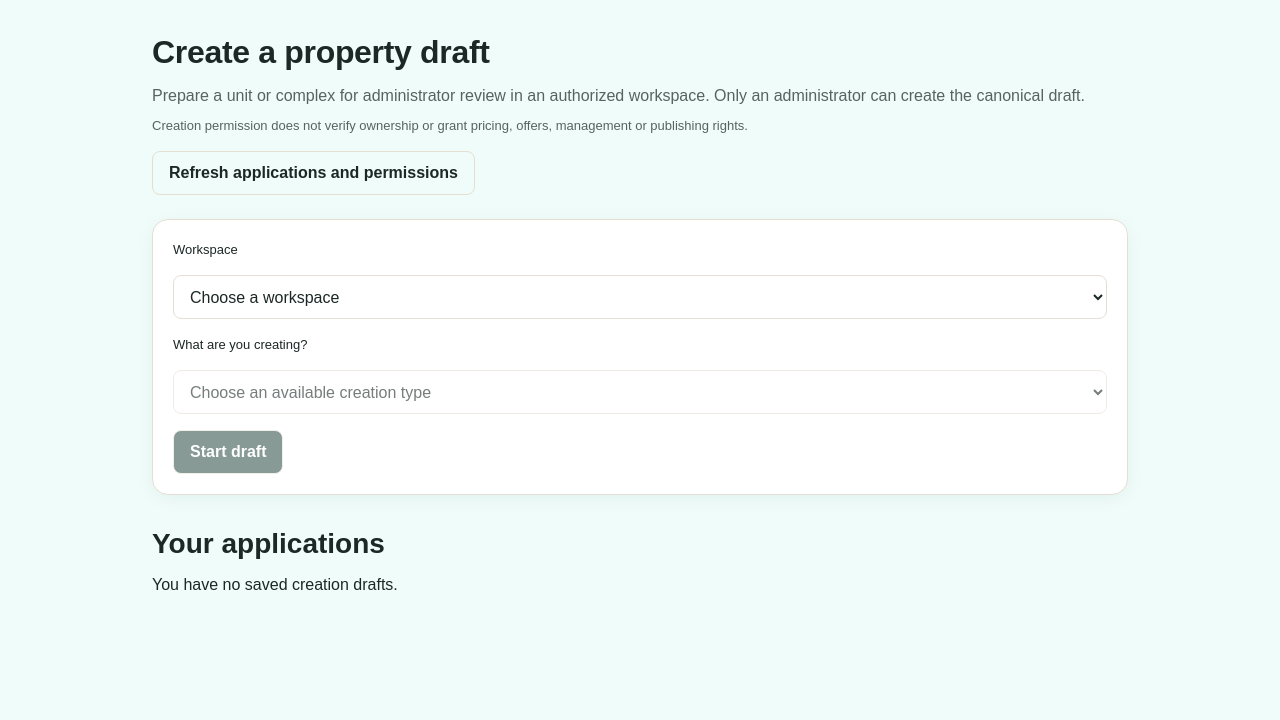
Test: employee creation editor › saves complex-only data with no unit keys and no implicit parent project
Select "Employee workspace" in the dropdown labelled "Workspace" at (640, 297), box left=173, top=275, right=1107, bottom=319
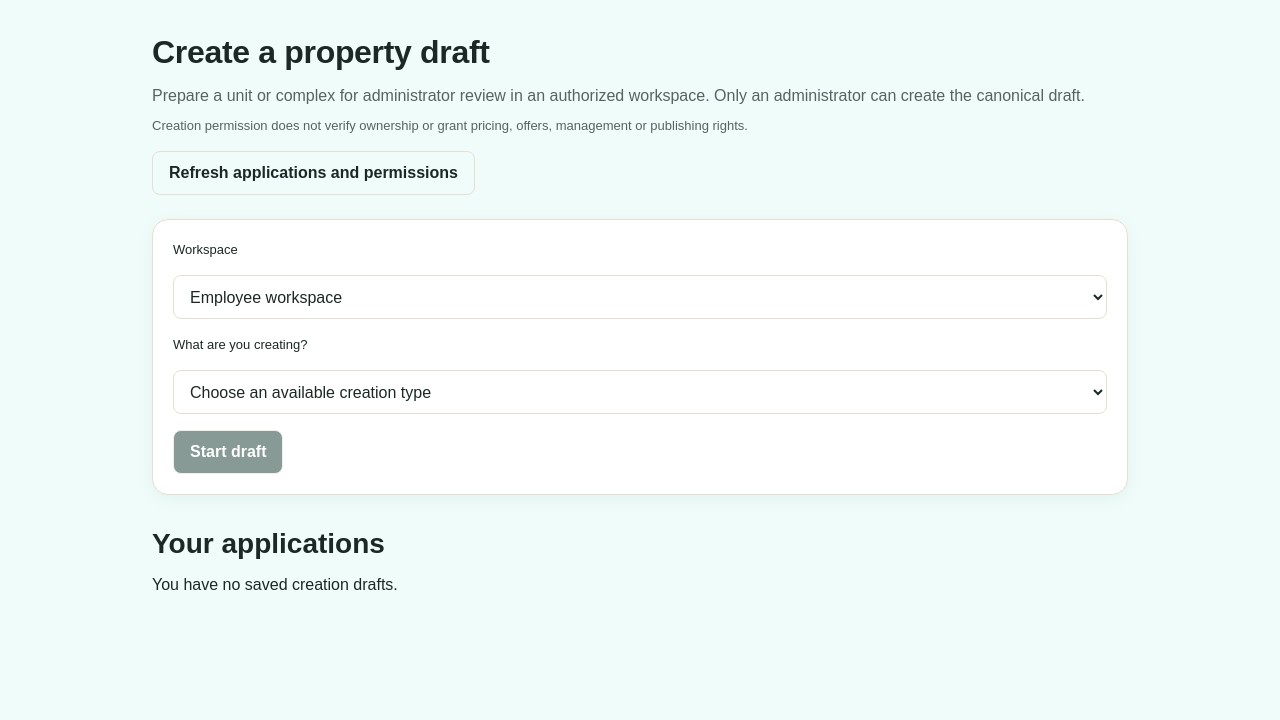
Select "Complex" in the dropdown labelled "What are you creating?" at (640, 392), box left=173, top=370, right=1107, bottom=414
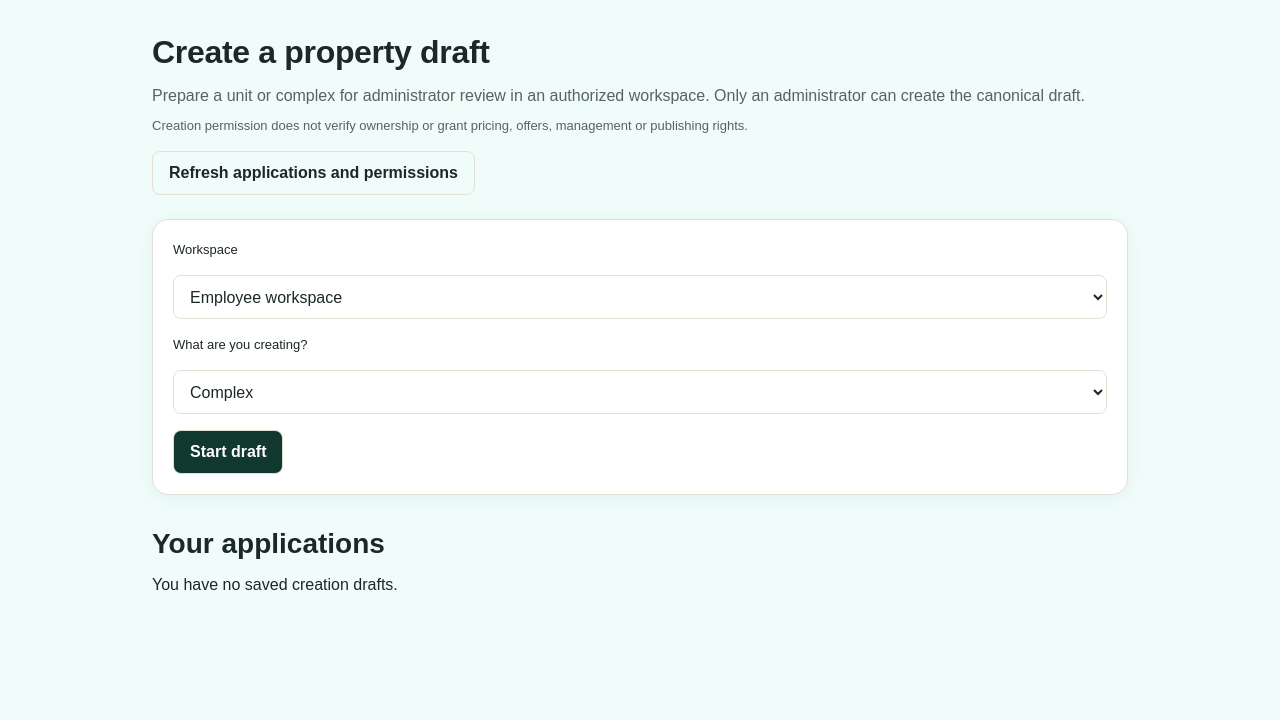
Click the button "Start draft".
click(228, 452)  # box left=173, top=430, right=284, bottom=474
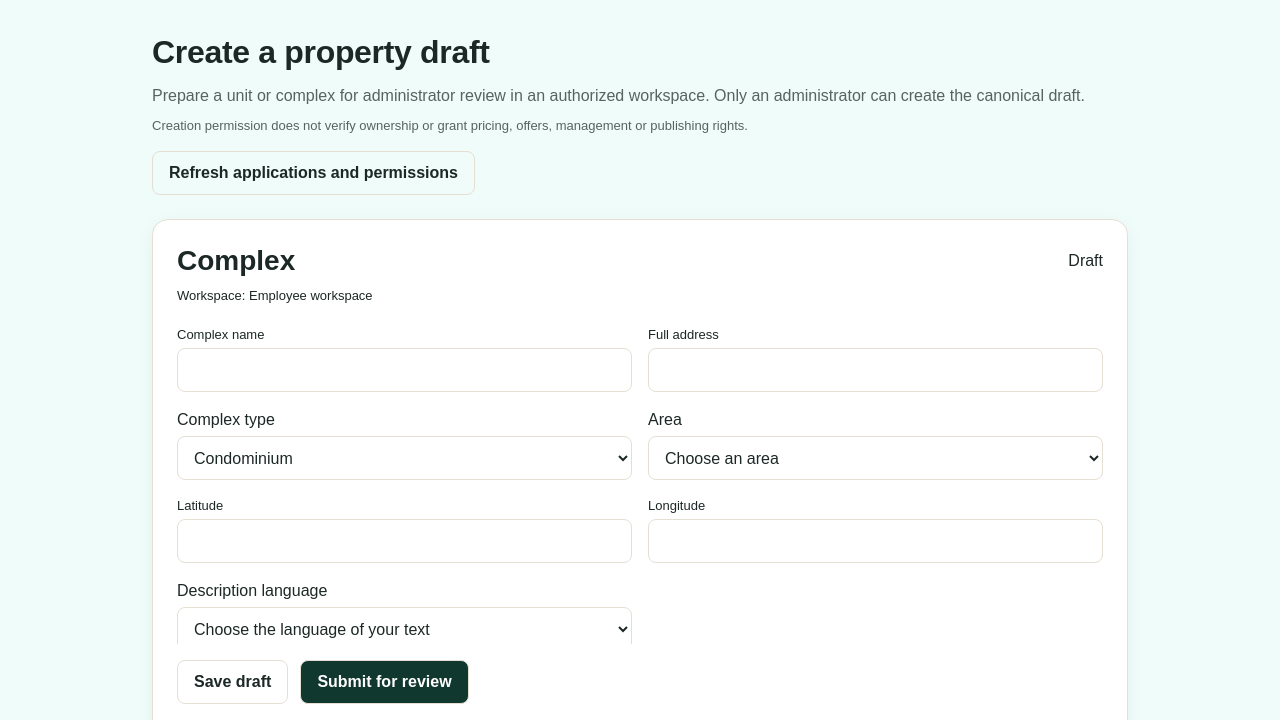
Result: the field labelled "Complex name" is shown
Type "New complex" into the field labelled "Complex name".
click(404, 370); type("New complex")  # box left=177, top=348, right=632, bottom=392
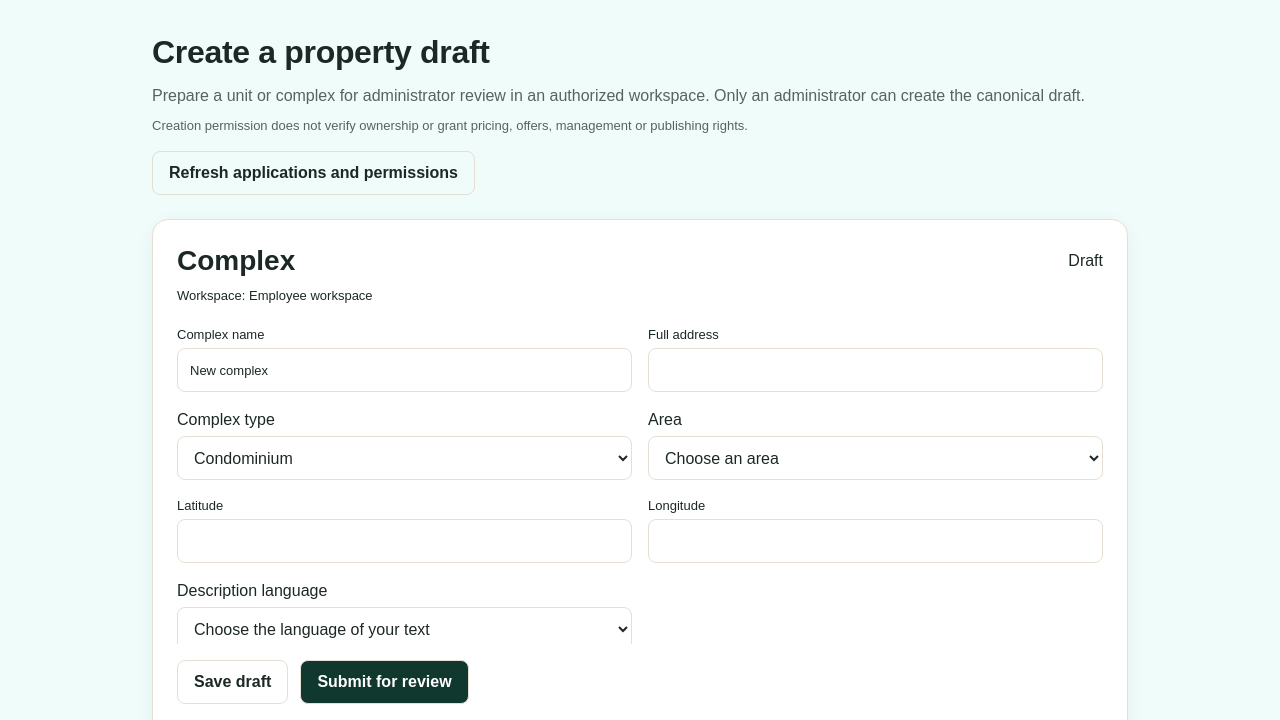
Click the button "Save draft".
click(233, 682)  # box left=177, top=660, right=288, bottom=704
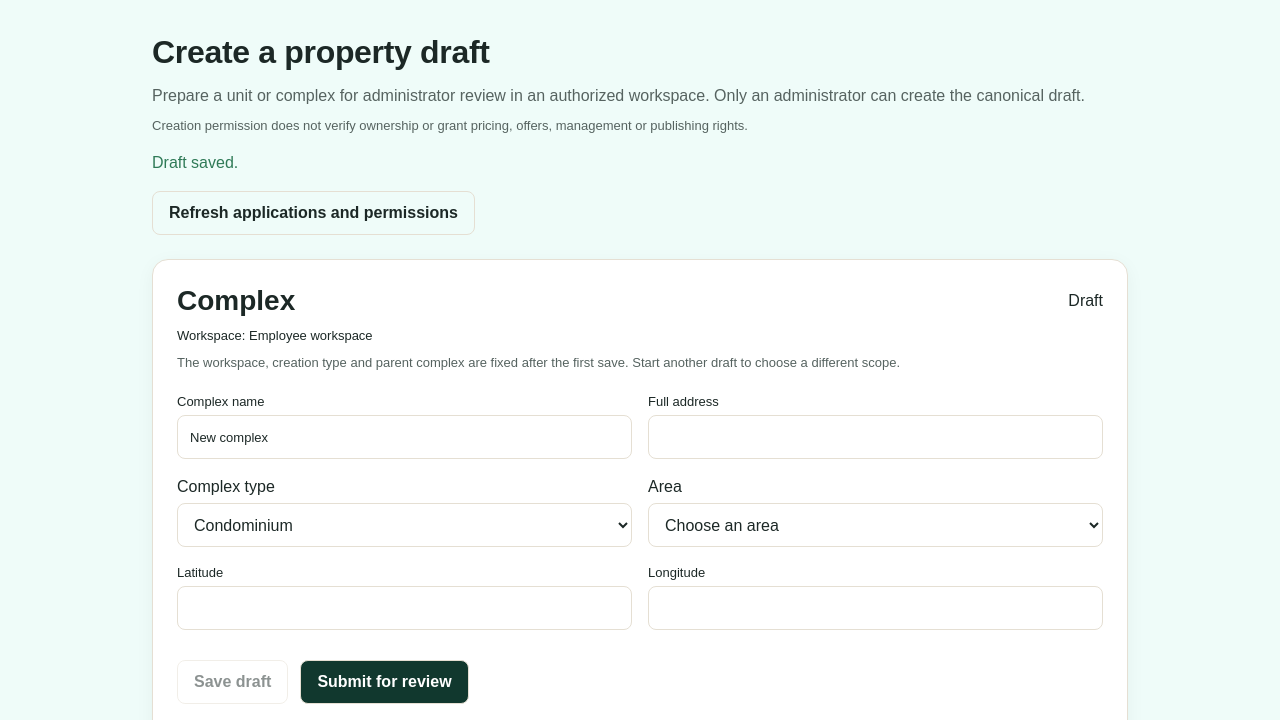
Result: the text "Draft saved." is shown at left=152, top=154, right=238, bottom=171
